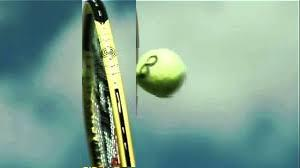tennis ball: (136, 48, 185, 96)
tennis racket: (84, 0, 136, 167)
